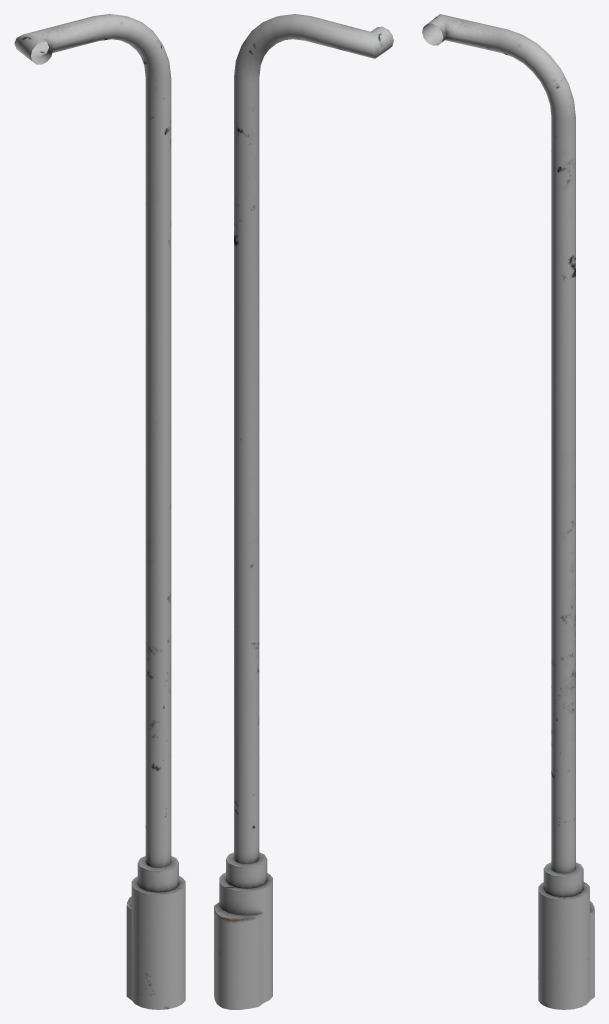
Rendered from Prop_ElectricBox_02.fbx.
3 views of the same model, side by side, from view 1: azimuth 30°, elevation 25°; view 2: azimuth 150°, elevation 25°; view 3: azimuth 330°, elevation 25° (orthographic). The views are drawn at different scales.
Parts seen in each view (by area): view 1: Prop_ElectricBox_02; view 2: Prop_ElectricBox_02; view 3: Prop_ElectricBox_02.
Part boxes in pixels (x1,y1,x2,y2): Prop_ElectricBox_02: (14, 14, 185, 1009); Prop_ElectricBox_02: (214, 14, 393, 1009); Prop_ElectricBox_02: (422, 14, 594, 1009).
Size of the model in its own units: 15.53 by 91.34 by 5.56.
